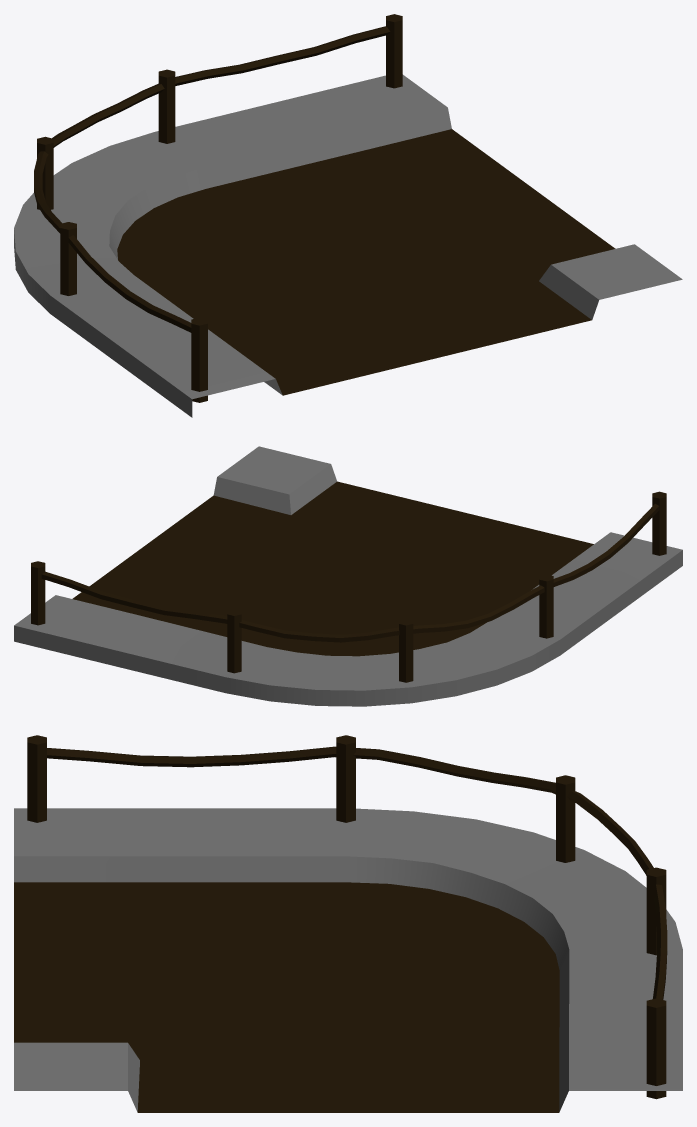
File: bridge_curve_mesh.fbx
The picture shows the model from 3 angles, top to bottom: view 1: azimuth 30°, elevation 25°; view 2: azimuth 150°, elevation 25°; view 3: azimuth 270°, elevation 25°; orthographic projection. The views are drawn at different scales.
Visible parts, largest first — view 1: bridge_curve_mesh; view 2: bridge_curve_mesh; view 3: bridge_curve_mesh.
Boxes of the visible parts, x1=… form: bridge_curve_mesh: x1=14, y1=14, x2=682, y2=417; bridge_curve_mesh: x1=14, y1=446, x2=682, y2=706; bridge_curve_mesh: x1=14, y1=735, x2=682, y2=1112.
Size of the model in its own units: 1 by 0.1651 by 1.
